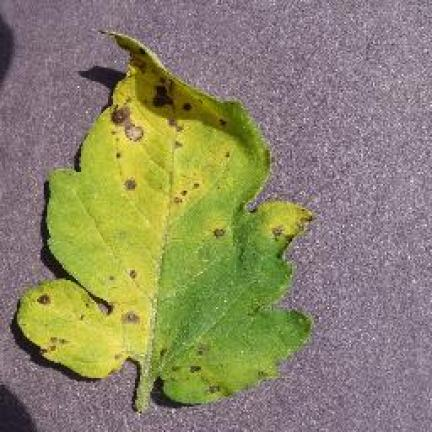disease: (17, 34, 310, 408)
leaf: (160, 78, 165, 84)
